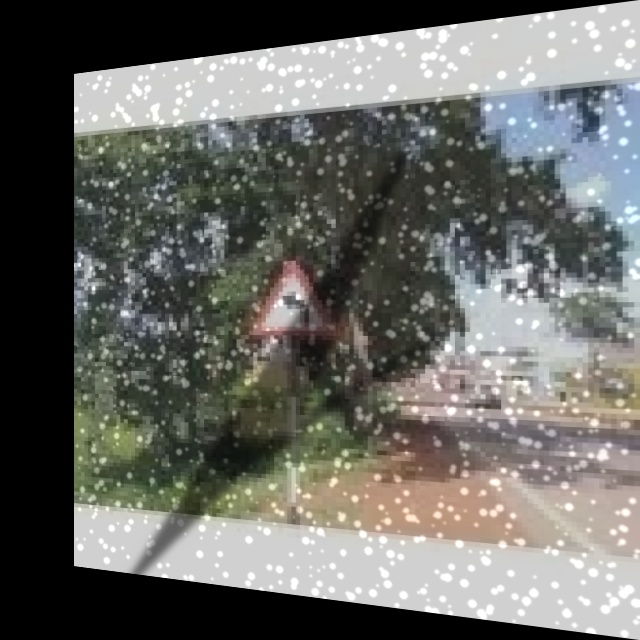Left_Hand_Curve: (251, 256, 335, 342)
